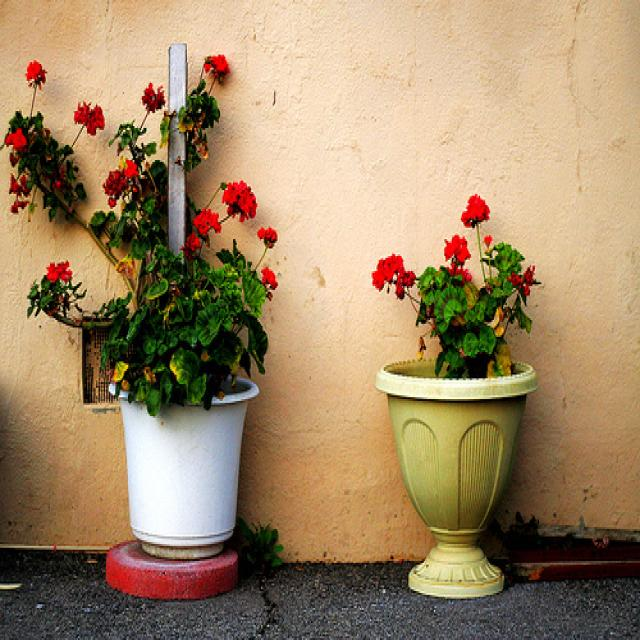pottedplant: (4, 50, 289, 569), (365, 188, 545, 604)
